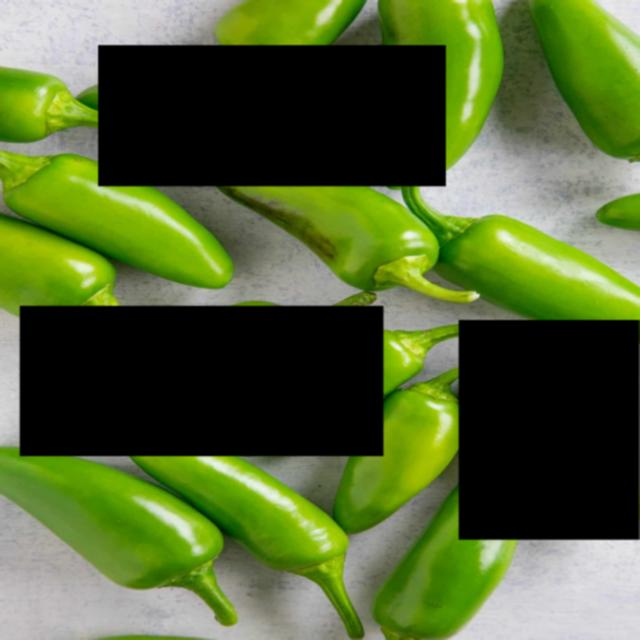Chili_Pepper: (20, 306, 383, 457), (98, 46, 446, 186), (0, 134, 239, 303), (459, 320, 640, 540)
